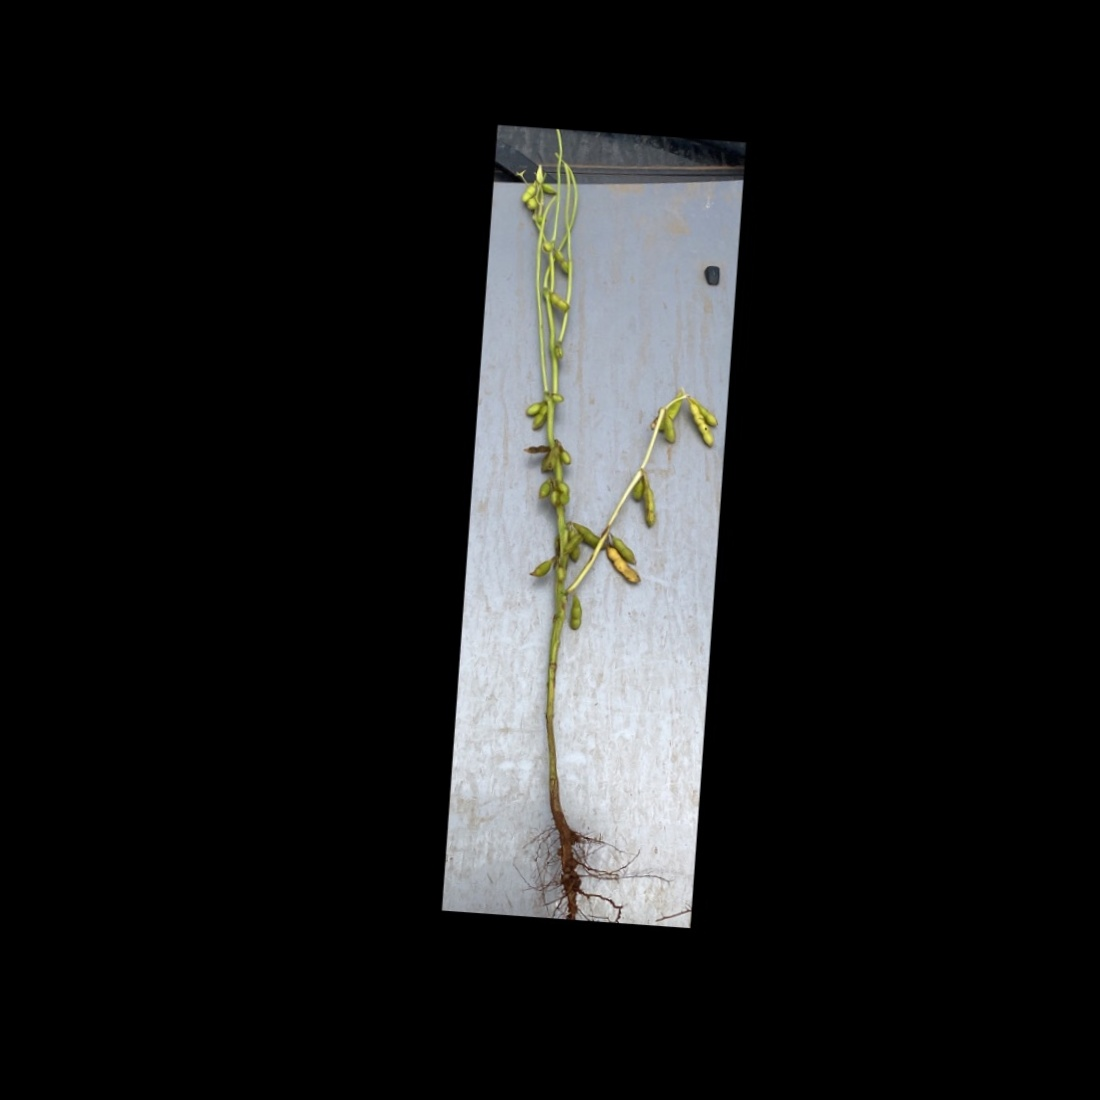pod: (639, 487, 660, 534), (527, 553, 558, 583), (544, 286, 573, 313), (564, 592, 584, 631), (662, 413, 680, 450), (554, 246, 575, 277), (533, 477, 555, 500), (520, 441, 551, 455), (557, 482, 573, 507), (540, 181, 560, 197)
soy: (462, 136, 740, 885)
